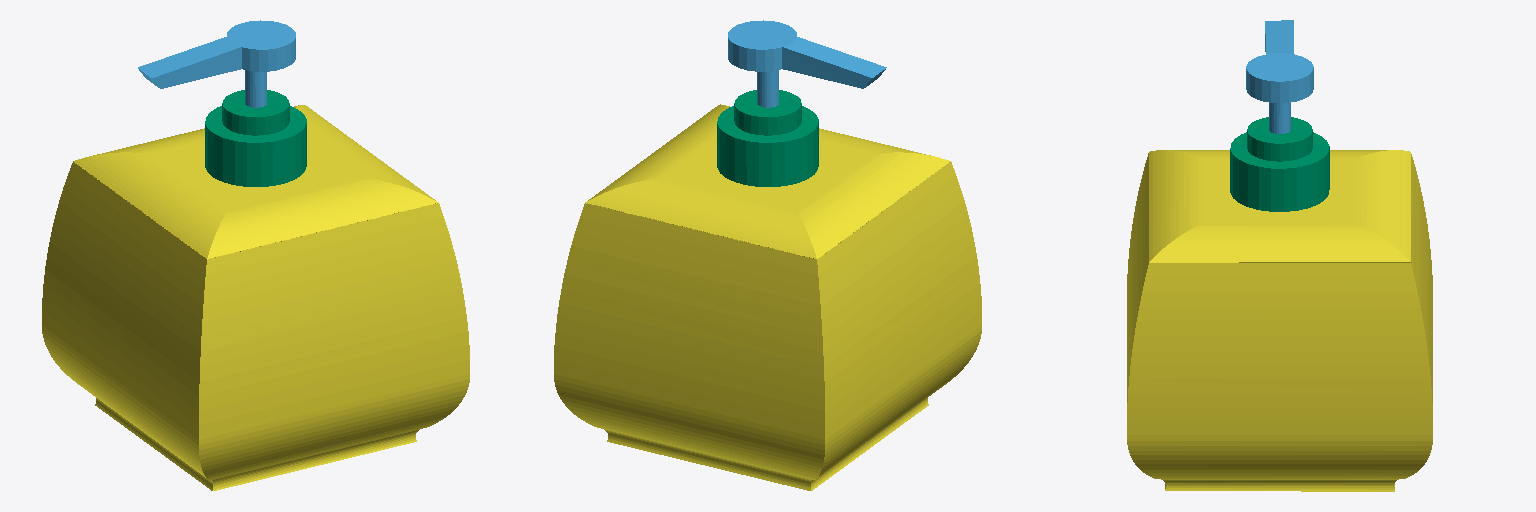
robot.urdf — partnet_af3763054969179d5a539e595e9e07ce:
<?xml version="1.0" ?>
<robot name="partnet_af3763054969179d5a539e595e9e07ce">
	<link name="base"/>
	<link name="link_0">
		<visual name="pressing_lid-1">
			<origin xyz="-0.005828188545105355 0 0.010071766220390145"/>
			<geometry>
				<mesh filename="textured_objs/original_3.obj"/>
			</geometry>
		</visual>
		<collision>
			<origin xyz="-0.005828188545105355 0 0.010071766220390145"/>
			<geometry>
				<mesh filename="textured_objs/original_3.obj"/>
			</geometry>
		</collision>
	</link>
	<joint name="joint_0" type="continuous">
		<origin xyz="0.0 0 0.0"/>
		<axis xyz="0 1 0"/>
		<child link="link_0"/>
		<parent link="link_0_helper"/>
	</joint>
	<link name="link_1">
		<visual name="head-3">
			<origin xyz="-0.005828188545105348 0 0.010071766220390148"/>
			<geometry>
				<mesh filename="textured_objs/original_2.obj"/>
			</geometry>
		</visual>
		<collision>
			<origin xyz="-0.005828188545105348 0 0.010071766220390148"/>
			<geometry>
				<mesh filename="textured_objs/original_2.obj"/>
			</geometry>
		</collision>
	</link>
	<joint name="joint_1" type="continuous">
		<origin xyz="0.0 0 0.0"/>
		<axis xyz="0 1 0"/>
		<child link="link_1"/>
		<parent link="link_1_helper"/>
	</joint>
	<link name="link_2">
		<visual name="base_body-4">
			<origin xyz="0 0 0"/>
			<geometry>
				<mesh filename="textured_objs/original_1.obj"/>
			</geometry>
		</visual>
		<collision>
			<origin xyz="0 0 0"/>
			<geometry>
				<mesh filename="textured_objs/original_1.obj"/>
			</geometry>
		</collision>
	</link>
	<joint name="joint_2" type="fixed">
		<origin rpy="1.570796326794897 0 -1.570796326794897" xyz="0 0 0"/>
		<child link="link_2"/>
		<parent link="base"/>
	</joint>
	<link name="link_0_helper">
		<inertial>
			<origin xyz="0 0 0"/>
			<mass value="1e-6"/>
			<inertia ixx="1e-10" ixy="0" ixz="0" iyy="1e-10" iyz="0" izz="1e-10"/>
		</inertial>
	</link>
	<joint name="joint_3" type="prismatic">
		<origin xyz="6.938893903907228e-18 0 3.469446951953614e-18"/>
		<axis xyz="0 -1 0"/>
		<child link="link_0_helper"/>
		<parent link="link_1"/>
		<limit lower="0" upper="0.175"/>
	</joint>
	<link name="link_1_helper">
		<inertial>
			<origin xyz="0 0 0"/>
			<mass value="1e-6"/>
			<inertia ixx="1e-10" ixy="0" ixz="0" iyy="1e-10" iyz="0" izz="1e-10"/>
		</inertial>
	</link>
	<joint name="joint_4" type="prismatic">
		<origin xyz="0.005828188545105348 0 -0.010071766220390148"/>
		<axis xyz="0 1 0"/>
		<child link="link_1_helper"/>
		<parent link="link_2"/>
		<limit lower="0" upper="0.02"/>
	</joint>
</robot>

--- What the picture shows (computed from the rendered views, not written in the file) ---
3 views of the same robot in one strip: view 1: azimuth 30°, elevation 25°; view 2: azimuth 150°, elevation 25°; view 3: azimuth 270°, elevation 25° (orthographic).
Robot: partnet_af3763054969179d5a539e595e9e07ce — 6 links, 5 joints (2 continuous, 2 prismatic, 1 fixed); root link base; default pose: every joint at zero.
Links seen in each view (by area): view 1: link_2, link_1, link_0; view 2: link_2, link_1, link_0; view 3: link_2, link_1, link_0.
Link boxes in pixels (x1,y1,x2,y2): link_2: [42, 105, 469, 490]; link_1: [205, 90, 306, 186]; link_0: [138, 20, 295, 107]; link_2: [554, 104, 981, 490]; link_1: [717, 90, 818, 186]; link_0: [728, 20, 886, 107]; link_2: [1127, 150, 1432, 491]; link_1: [1230, 117, 1329, 211]; link_0: [1246, 20, 1313, 133].
Bounding box of the posed robot: 1.15 × 1.15 × 1.56 m (x, y, z).
Meshes: 3 distinct files referenced, 3 mesh visuals loaded (3 OBJ).
